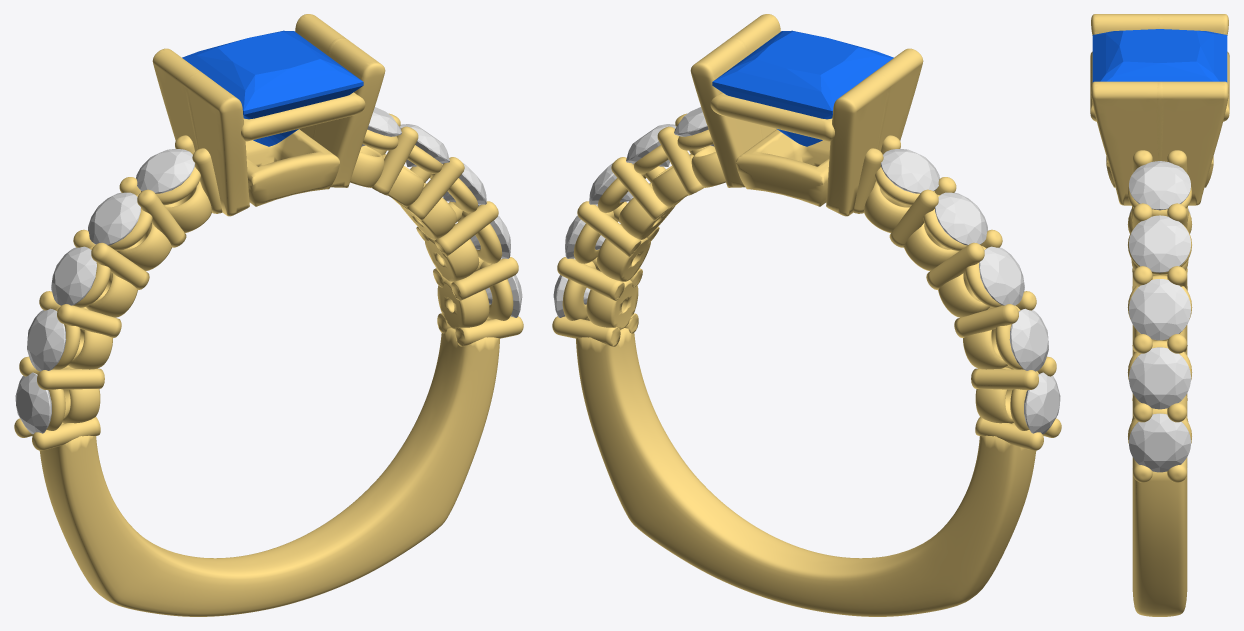
File: bluesapphire-princess-yellowgold-halfmoonbezel-europeanshank-11stone.glb
The picture shows the model from 3 angles, left to right: view 1: azimuth 30°, elevation 25°; view 2: azimuth 150°, elevation 25°; view 3: azimuth 270°, elevation 25°; orthographic projection. The views are drawn at different scales.
Parts seen in each view (by area): view 1: metal, stone, side.004, side.003, side.005, side.002, side, side.007; view 2: metal, stone, side.004, side.003, side.005, side.002, side, side.007; view 3: metal, stone, side.009, side.008, side.007, side.001, side.006.
Boxes of the visible parts, x1,y1,x2,y2 form: metal: [14, 14, 523, 616]; stone: [182, 30, 363, 146]; side.004: [88, 192, 140, 245]; side.003: [51, 246, 96, 305]; side.005: [136, 149, 194, 193]; side.002: [27, 308, 66, 371]; side: [15, 372, 51, 434]; side.007: [399, 124, 449, 166]; metal: [552, 14, 1061, 616]; stone: [712, 30, 893, 146]; side.004: [935, 192, 987, 245]; side.003: [979, 246, 1024, 305]; side.005: [881, 149, 939, 193]; side.002: [1009, 308, 1048, 371]; side: [1024, 372, 1060, 434]; side.007: [626, 124, 676, 166]; metal: [1090, 14, 1229, 616]; stone: [1092, 29, 1227, 82]; side.009: [1129, 347, 1190, 409]; side.008: [1129, 279, 1190, 340]; side.007: [1129, 215, 1190, 272]; side.001: [1129, 413, 1190, 472]; side.006: [1129, 161, 1190, 210].
Bounding box in the file's own units: 22.23 × 23.65 × 5.6.
